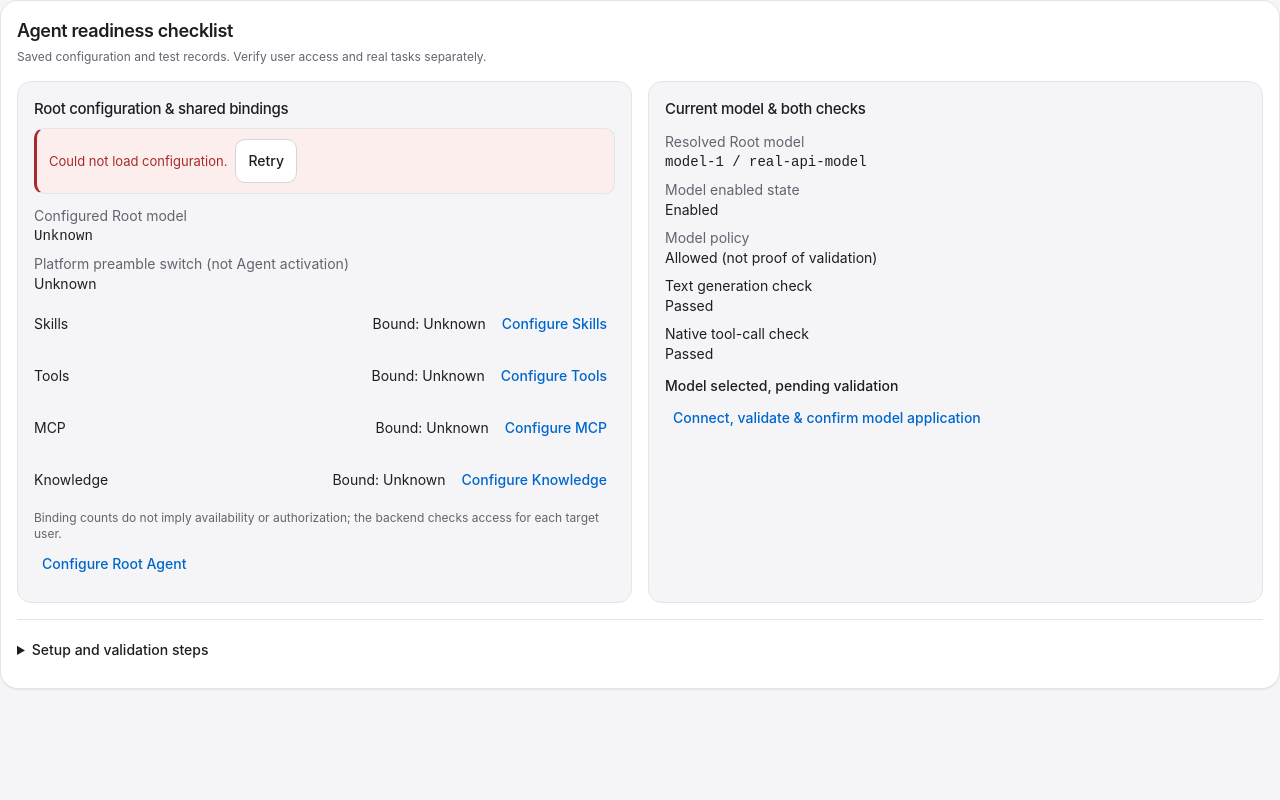
AgentReadiness › retries only the failed resource /api/proxy/api/admin/platform-config
This screenshot has width=1280, height=800.
expect the message "Could not load configuration. Retry" is shown: met, box [34, 128, 615, 194]
expect the text "Both model checks passed" is not shown: met
Step 1. Click the button "Retry" → (266, 161), box [236, 139, 297, 183]
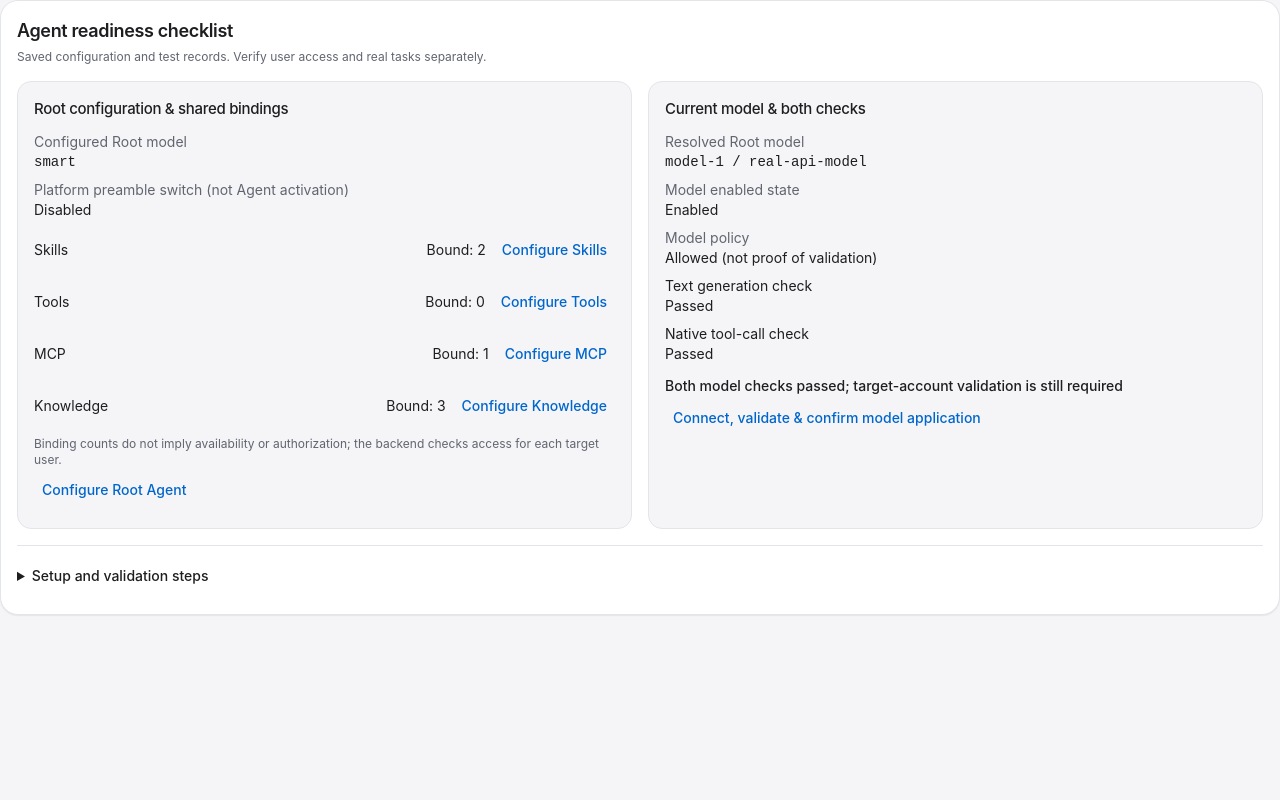
expect the message "Could not load configuration. Retry" is gone: met
expect the text "Both model checks passed; target-account validation is still required" is shown: met, box [665, 377, 1123, 394]
